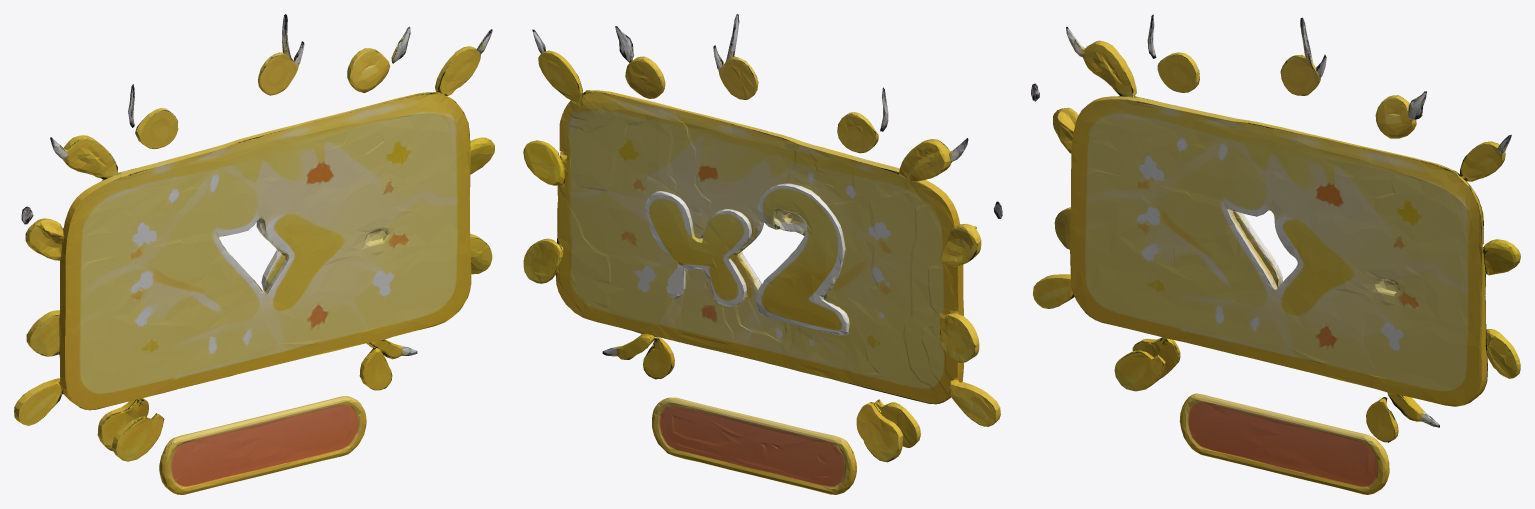
The model's file is popup_double_reward.glb.
3 views of the same model, side by side, from view 1: azimuth 30°, elevation 25°; view 2: azimuth 150°, elevation 25°; view 3: azimuth 330°, elevation 25° (orthographic). The views are drawn at different scales.
Visible parts, largest first — view 1: world; view 2: world; view 3: world.
Part boxes in pixels (x1,y1,x2,y2): world: (14,14,494,494); world: (523,14,1002,494); world: (1031,14,1520,494).
Size of the model in its own units: 0.9898 by 0.9061 by 0.0764.
1 material, 1 textured.
